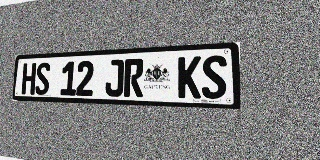1: (60, 61, 77, 96)
2: (76, 61, 94, 96)
H: (21, 63, 36, 95)
J: (105, 59, 124, 97)
K: (178, 56, 201, 99)
R: (124, 58, 144, 97)
S: (202, 55, 227, 99), (35, 62, 51, 95)
